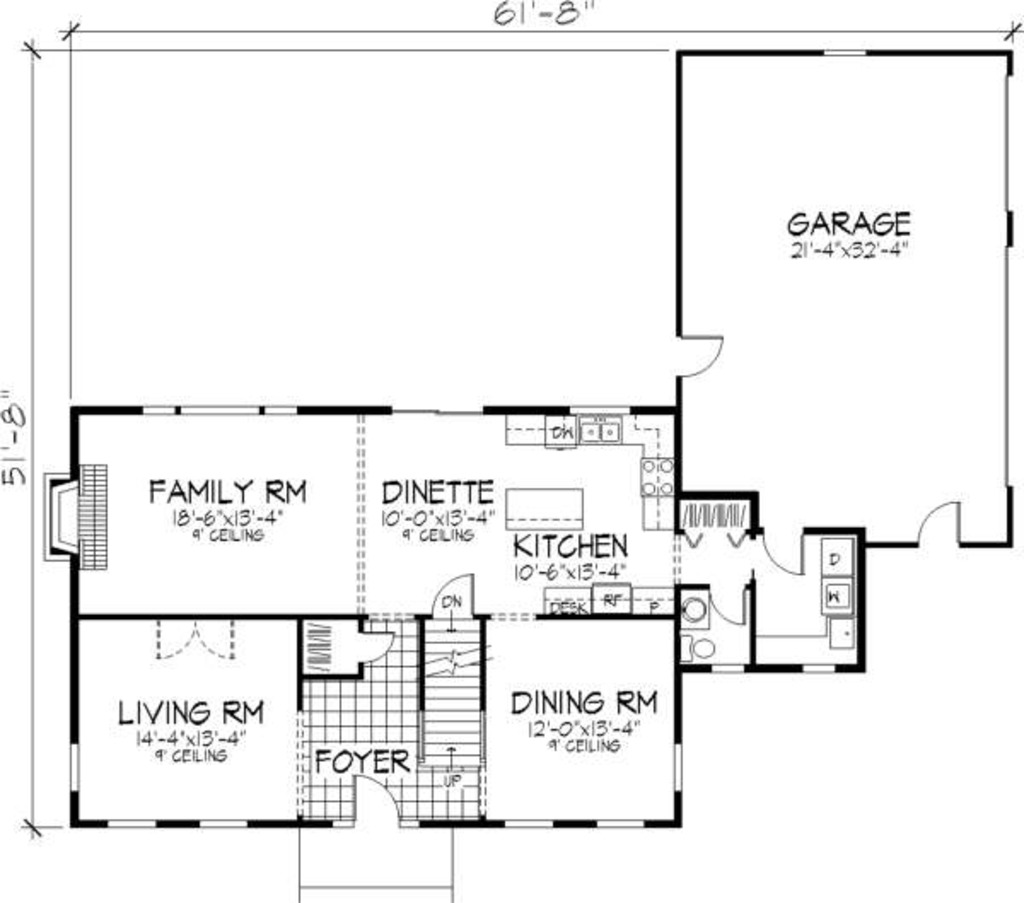door: (677, 327, 726, 387), (427, 571, 484, 622), (347, 775, 400, 829), (758, 526, 810, 579), (918, 499, 966, 548), (706, 579, 746, 626), (354, 626, 394, 668)
kitchen_bar: (502, 483, 587, 534)
large_sink: (683, 633, 726, 665)
windows: (136, 399, 303, 425), (382, 400, 486, 420), (64, 739, 84, 797)
